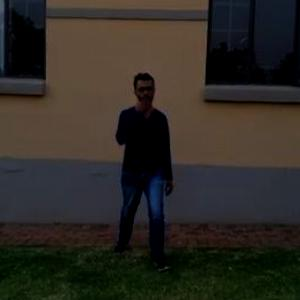follow: (113, 71, 173, 261)
